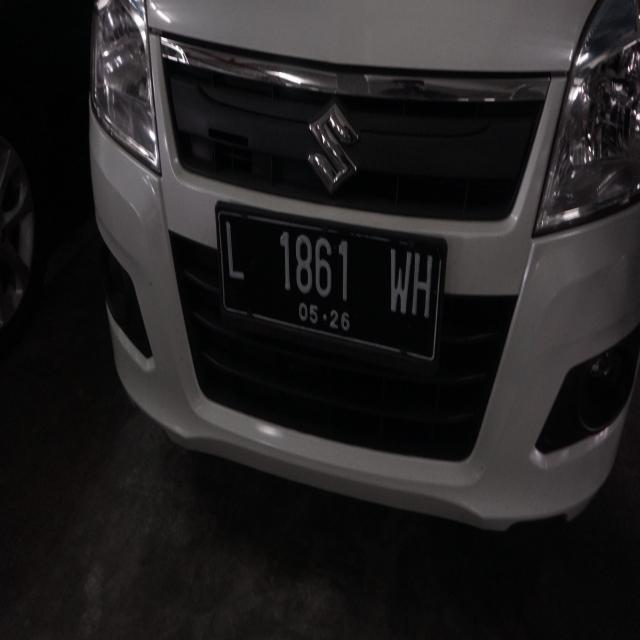1: (268, 222, 300, 310), (333, 221, 361, 315)
6: (310, 218, 338, 308)
8: (290, 222, 315, 303)
H: (408, 235, 438, 328)
L: (214, 206, 253, 299)
W: (380, 234, 414, 326)
